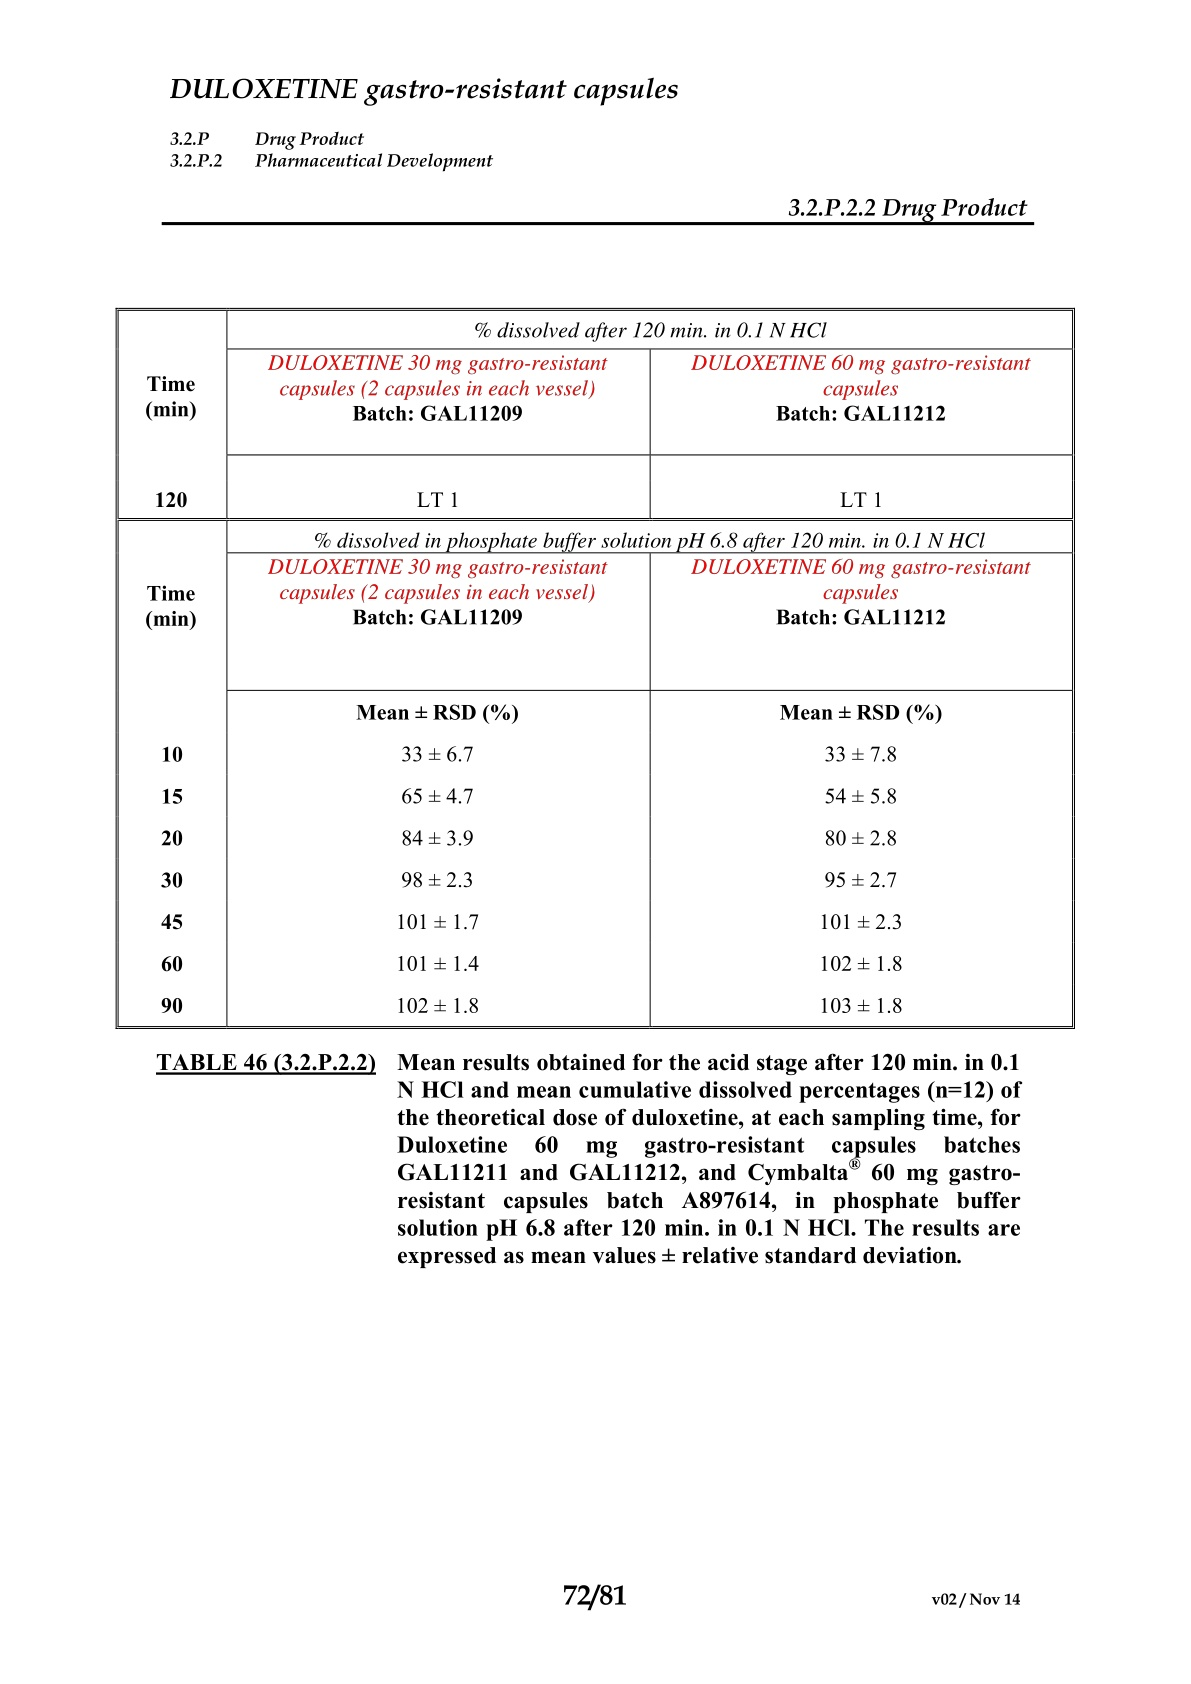merged_cells: (115, 305, 1076, 1029)
